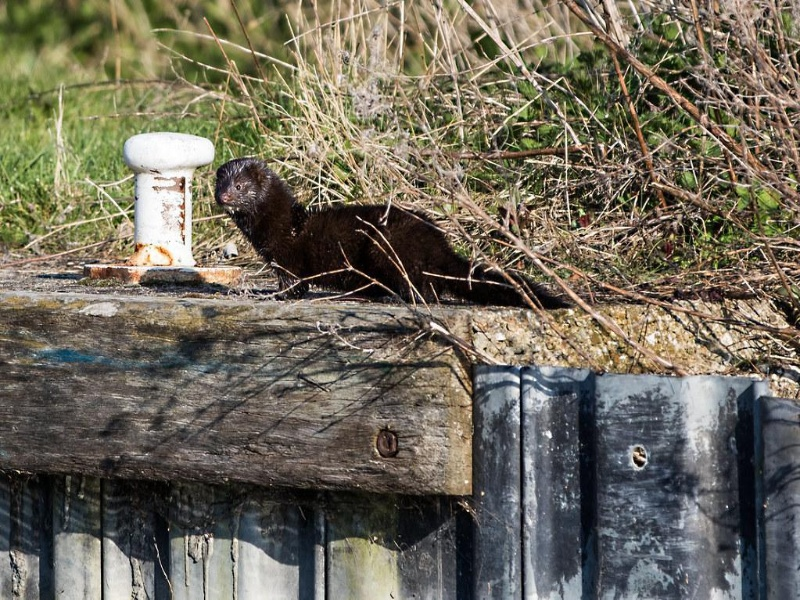minkish: (215, 157, 574, 313)
